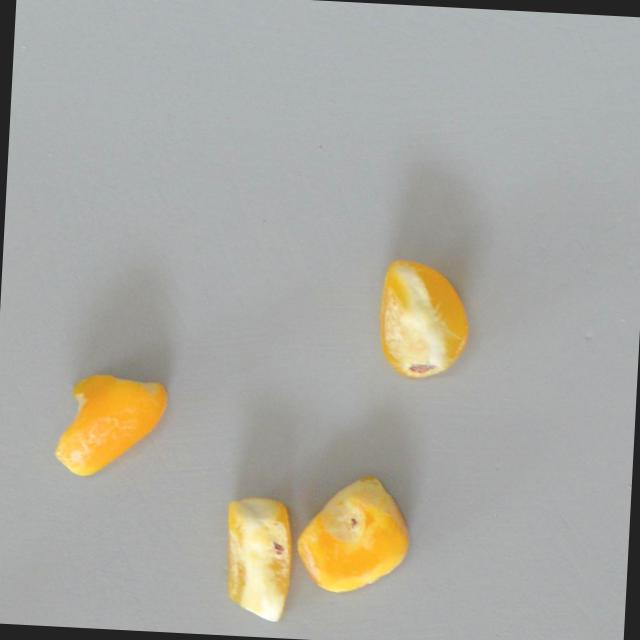dañado: (363, 255, 480, 383), (47, 366, 173, 484), (217, 490, 299, 624)
punto_negro: (288, 468, 417, 598)
